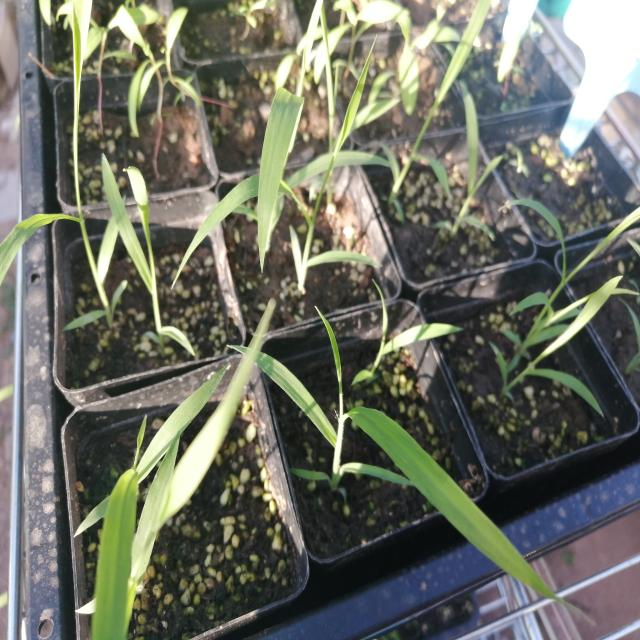crabgrass: (263, 300, 521, 578), (10, 145, 191, 340), (232, 62, 386, 284)
